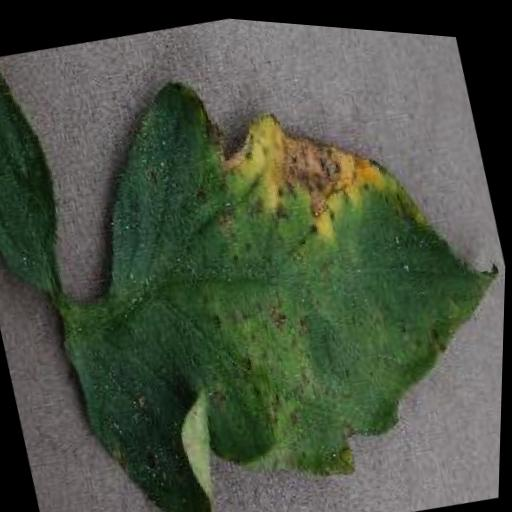Bacterial Spot: (8, 1, 512, 512)
